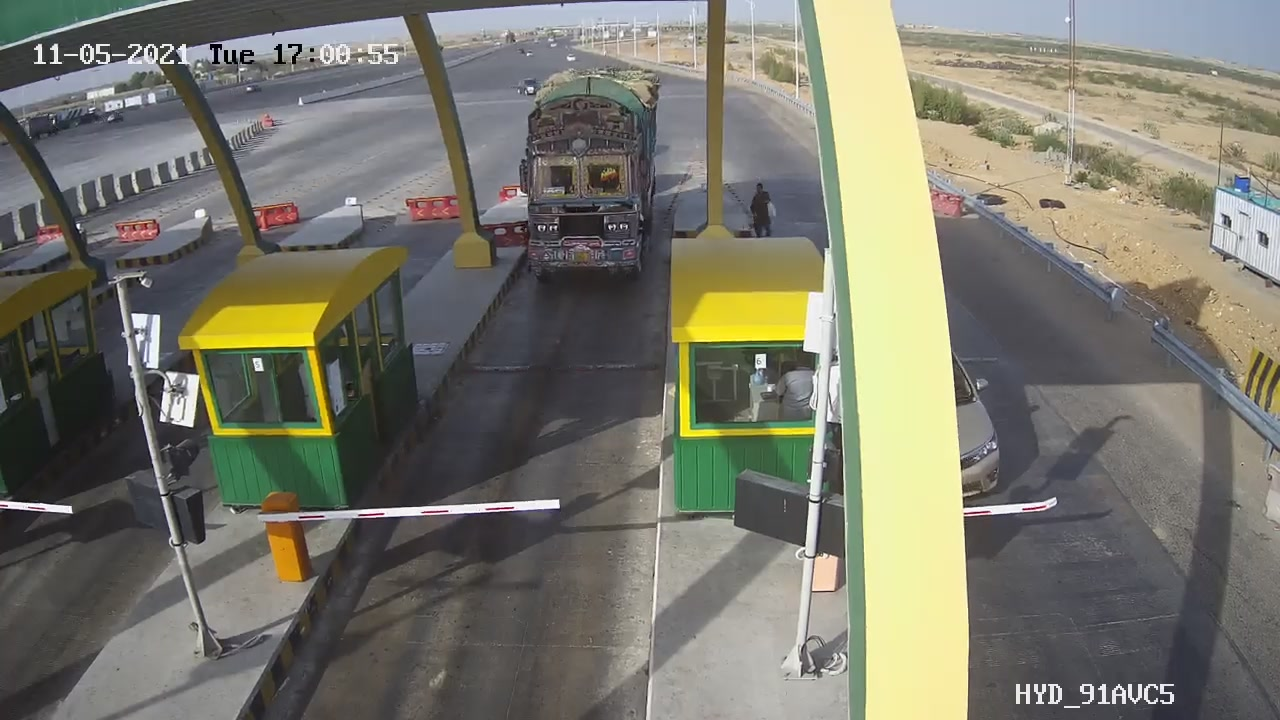F5: (503, 55, 673, 296)
